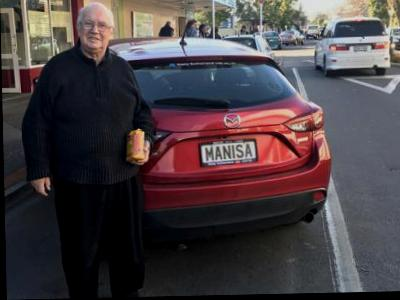License_Plate: (197, 140, 257, 164)
